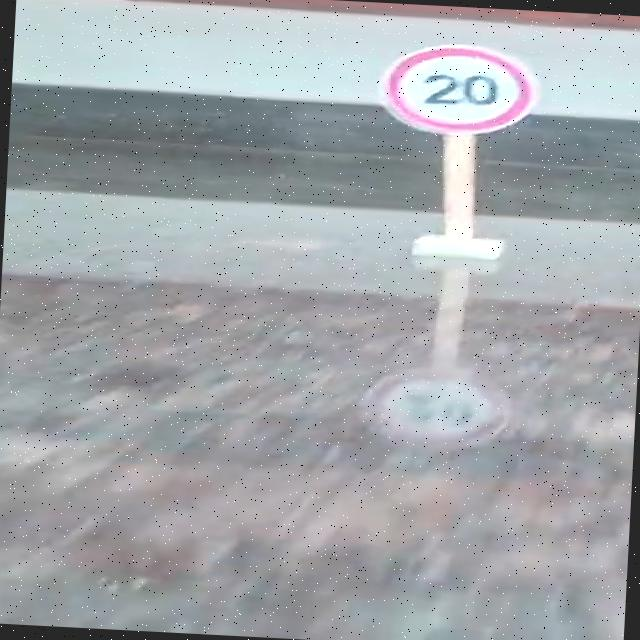Speed20: (368, 34, 551, 146)
